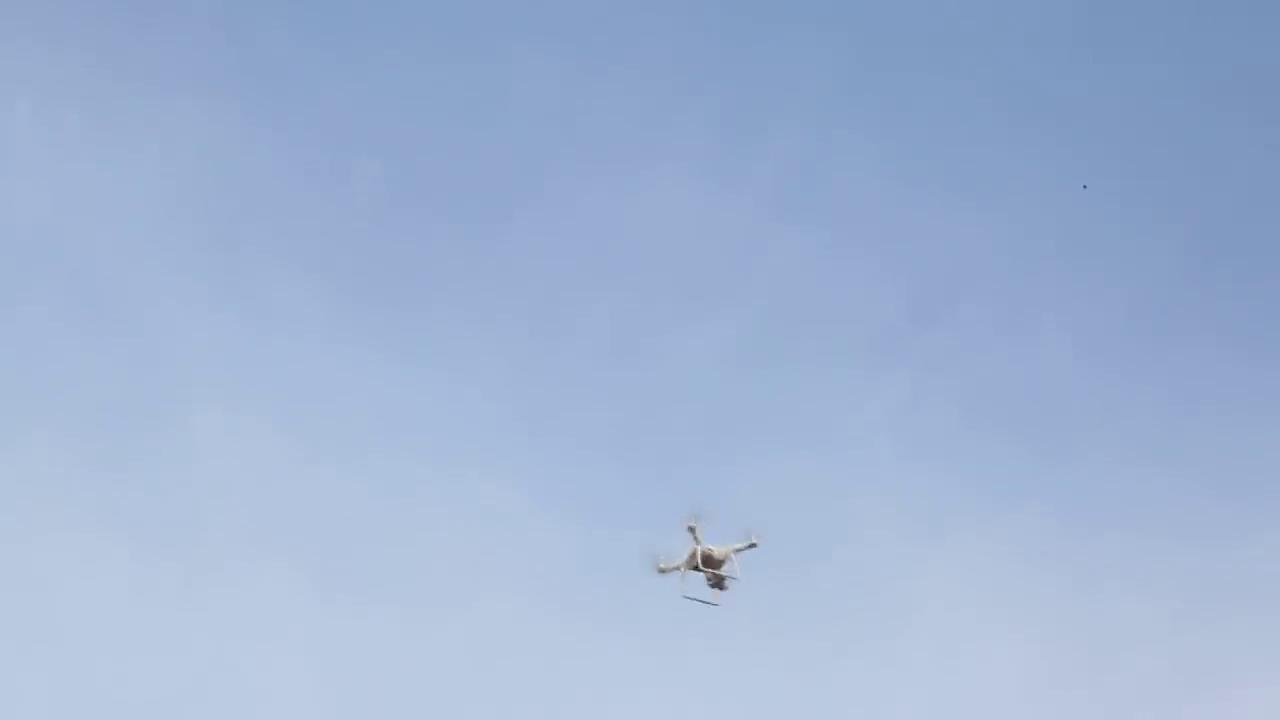drone: (649, 516, 770, 613)
